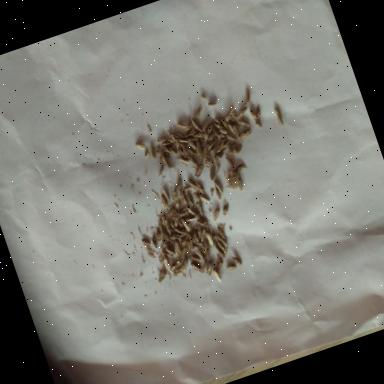pbw: (224, 168, 237, 187), (191, 116, 204, 134), (206, 166, 220, 182), (190, 260, 204, 276), (188, 153, 200, 171), (192, 164, 207, 178), (219, 200, 232, 216), (186, 204, 199, 220), (160, 153, 172, 170), (171, 239, 183, 256), (186, 230, 196, 250), (170, 127, 184, 141), (198, 216, 212, 230), (210, 208, 224, 222), (178, 258, 192, 272), (177, 155, 191, 169), (180, 217, 192, 233), (172, 212, 184, 228), (226, 142, 238, 158), (237, 104, 251, 117), (165, 144, 178, 158), (145, 244, 158, 258), (214, 258, 227, 272), (274, 108, 284, 126), (170, 230, 188, 240), (198, 228, 210, 243), (204, 261, 216, 276), (174, 138, 186, 153), (186, 190, 196, 208), (214, 179, 225, 195), (196, 202, 207, 218), (218, 240, 229, 256), (212, 125, 222, 142), (162, 246, 174, 260), (203, 154, 215, 168), (168, 260, 182, 272), (199, 148, 211, 162), (186, 178, 198, 192), (234, 162, 248, 174), (200, 240, 212, 254), (243, 89, 254, 104), (194, 140, 204, 156), (162, 228, 172, 244), (164, 219, 174, 235), (218, 224, 228, 240), (195, 222, 205, 238), (135, 140, 147, 153), (219, 140, 232, 152), (193, 106, 206, 118), (232, 254, 243, 268), (192, 130, 206, 141), (200, 192, 211, 206), (184, 128, 199, 138), (178, 246, 190, 258), (214, 142, 226, 154), (249, 109, 260, 122), (236, 178, 246, 192), (156, 164, 166, 178), (170, 188, 180, 202), (240, 128, 254, 138), (216, 246, 226, 260), (196, 248, 206, 262), (162, 189, 171, 204), (213, 268, 222, 283), (148, 144, 157, 159), (181, 141, 190, 156), (210, 233, 219, 248), (165, 244, 176, 256), (190, 252, 202, 263), (226, 132, 238, 143), (219, 124, 230, 136), (178, 207, 190, 218), (204, 248, 214, 261), (232, 123, 240, 139), (180, 190, 188, 206), (160, 194, 169, 208), (205, 232, 214, 246), (213, 119, 224, 130), (196, 180, 204, 195), (214, 185, 222, 200), (230, 142, 240, 154), (180, 235, 190, 247), (240, 117, 250, 129), (226, 262, 238, 272), (174, 226, 186, 236), (162, 138, 174, 148), (178, 120, 190, 130), (180, 148, 189, 161), (154, 228, 163, 241), (185, 240, 193, 254), (228, 122, 236, 136), (221, 116, 229, 130), (176, 178, 184, 192), (168, 216, 176, 230), (207, 140, 218, 150), (142, 236, 152, 247), (172, 268, 183, 278), (255, 107, 264, 119), (147, 248, 156, 260), (163, 256, 171, 269), (151, 236, 159, 249), (220, 236, 228, 249), (192, 230, 200, 243), (188, 147, 198, 157), (234, 144, 244, 154), (166, 208, 176, 218), (206, 132, 216, 142), (212, 128, 219, 142), (194, 192, 202, 204), (160, 214, 168, 226), (226, 156, 234, 168), (178, 136, 188, 145), (184, 122, 194, 131), (157, 136, 168, 144), (188, 136, 199, 143), (256, 121, 264, 130), (208, 100, 219, 106), (196, 240, 204, 248), (219, 130, 226, 139), (234, 120, 240, 130), (219, 138, 228, 144), (184, 186, 192, 192), (200, 94, 206, 101)
